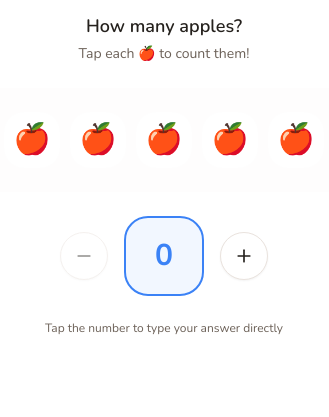
Test: CountingWidget › shows submit button when count > 0
Expected: the text "Check My Answer" is not shown
Press the mouse on the button named "Add one" at (244, 256), box [220,232,268,280]
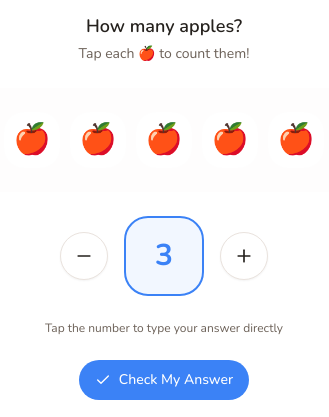
Expected: the button "Check My Answer" is shown, [79,360,249,400]
